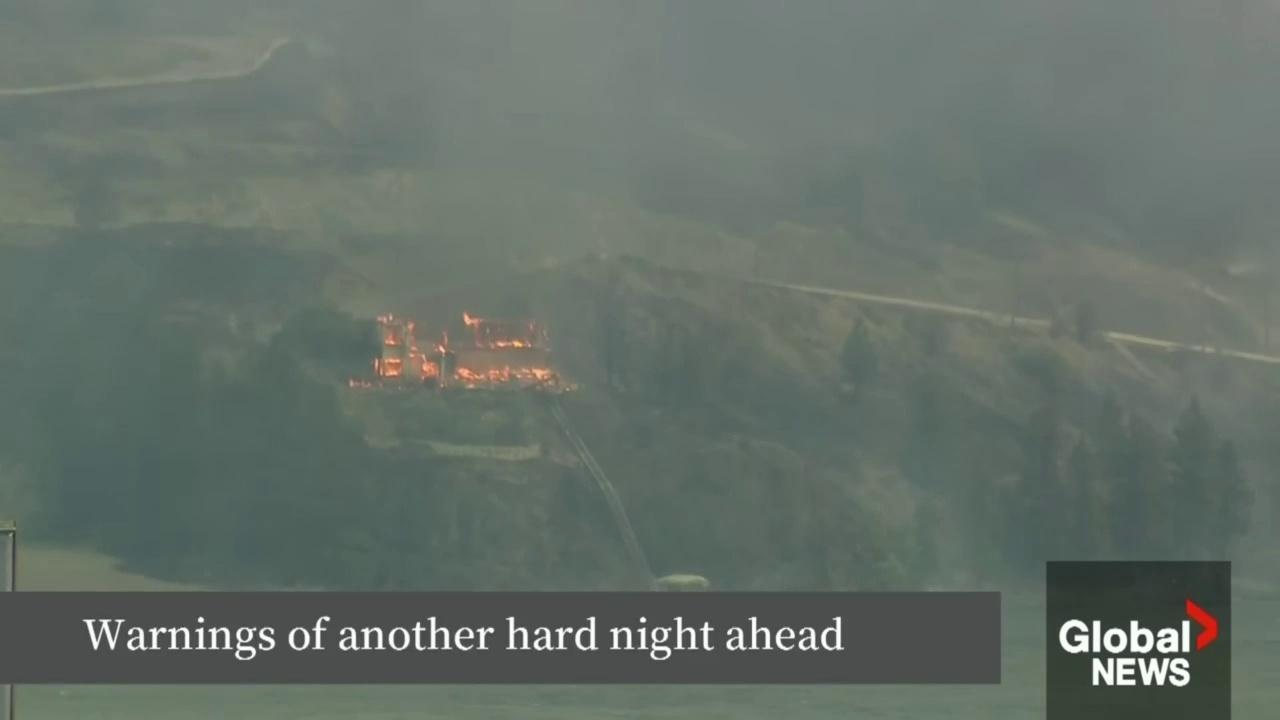fire: (452, 364, 560, 389), (406, 320, 440, 381), (460, 311, 486, 349), (373, 357, 403, 376), (489, 340, 532, 351), (433, 331, 449, 358), (383, 330, 399, 346), (349, 379, 371, 388), (376, 312, 393, 323)
